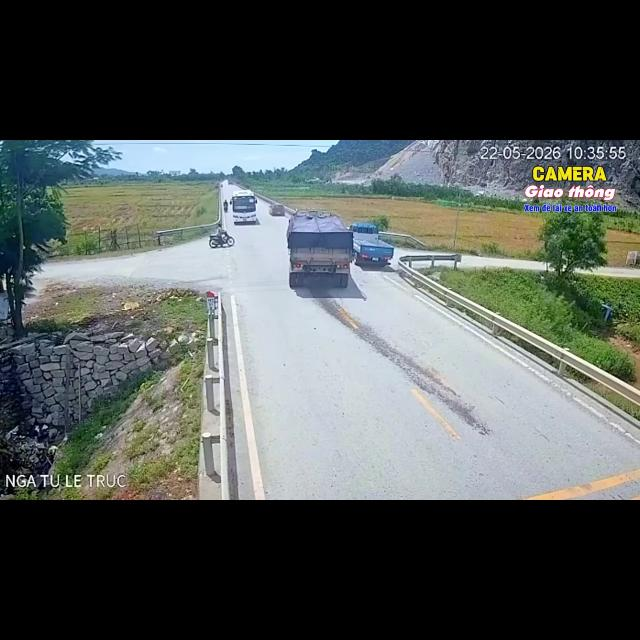bus: (231, 190, 257, 223)
car: (270, 204, 285, 215)
motorcycle: (209, 233, 234, 248), (224, 206, 228, 214)
truck: (287, 211, 353, 288), (350, 223, 394, 266)
